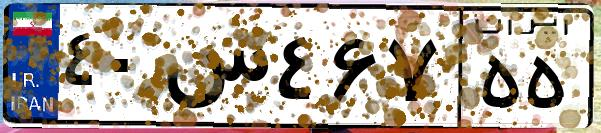0: (110, 28, 158, 98)
4: (270, 28, 330, 110), (57, 26, 110, 100)
5: (475, 38, 525, 113), (525, 38, 570, 115)
6: (330, 28, 385, 110)
7: (385, 28, 445, 110)
س: (158, 20, 270, 120)
